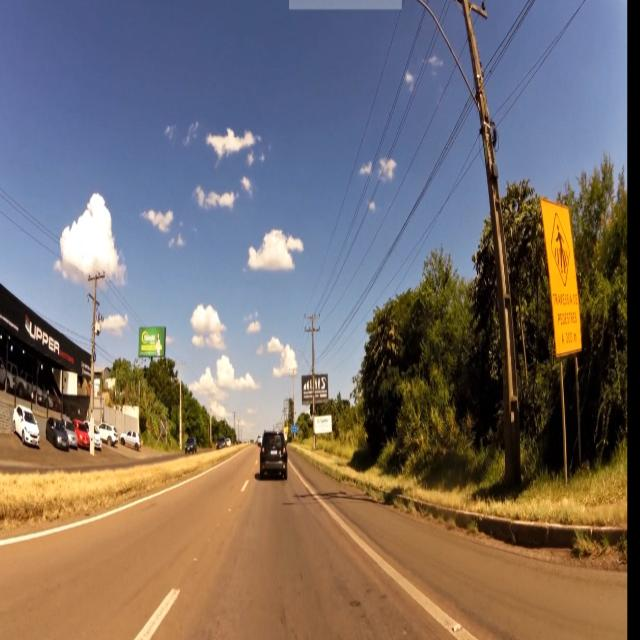A-32b: (550, 210, 572, 286)
